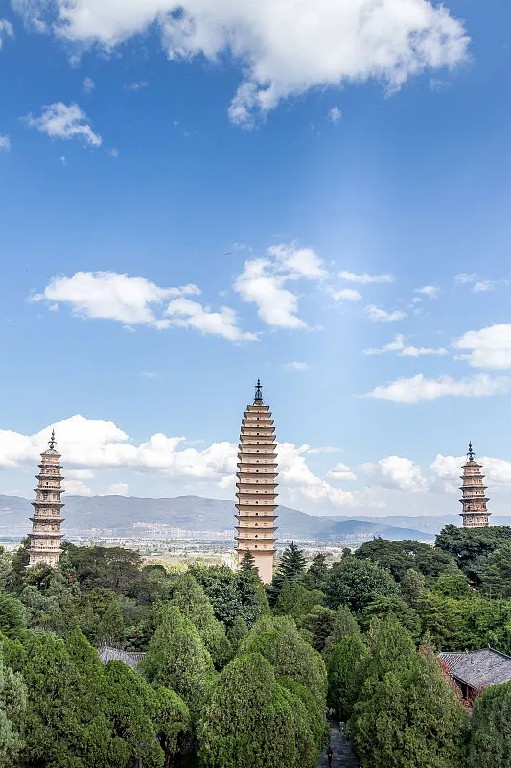ThreePagoda: (234, 377, 277, 587)
